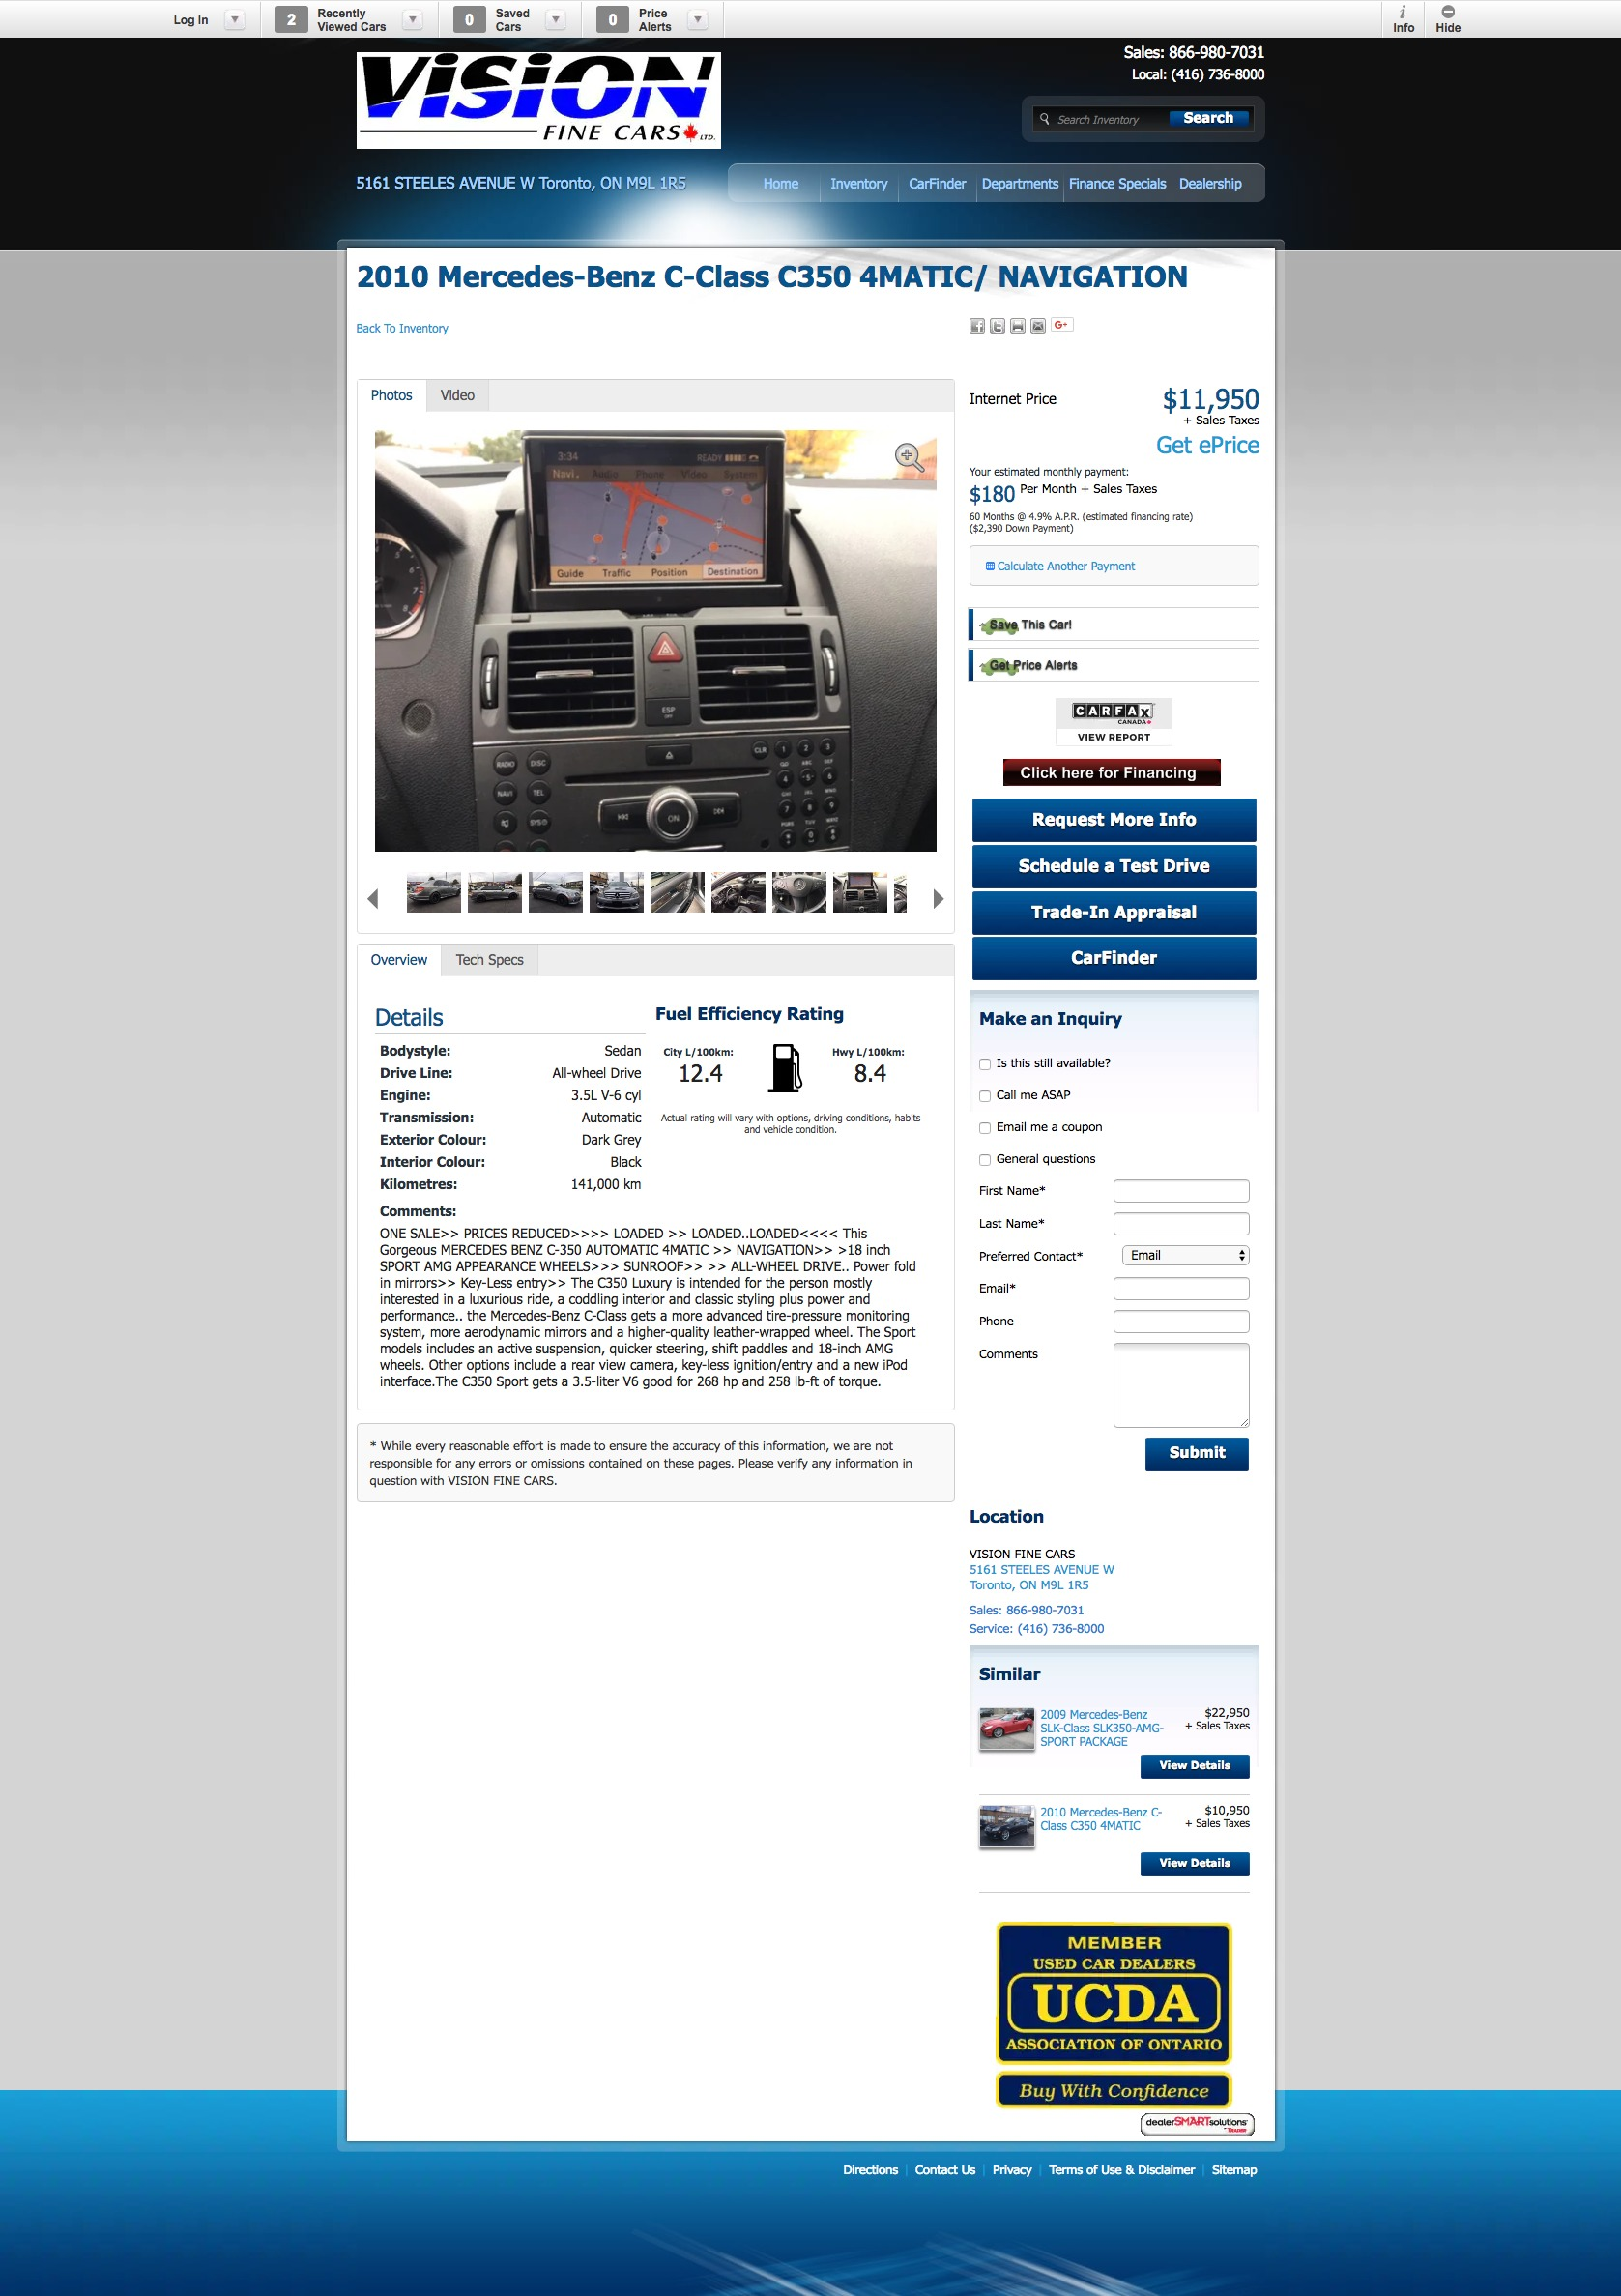car: (933, 889, 946, 912)
